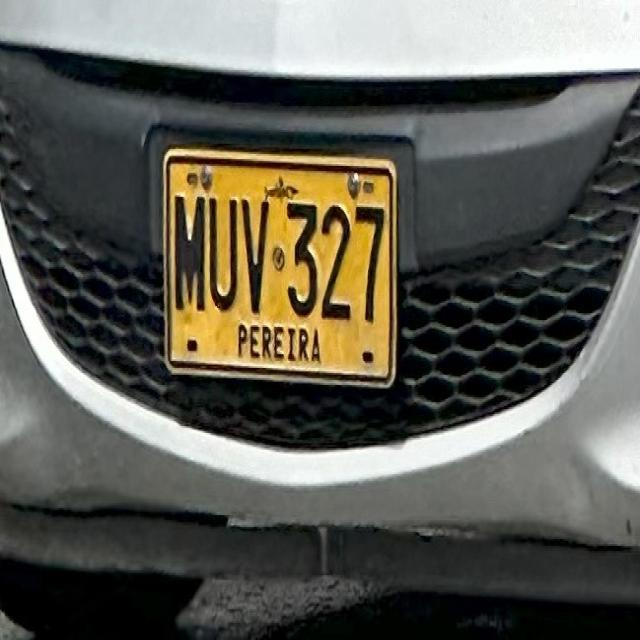number plate: (163, 147, 394, 383)
